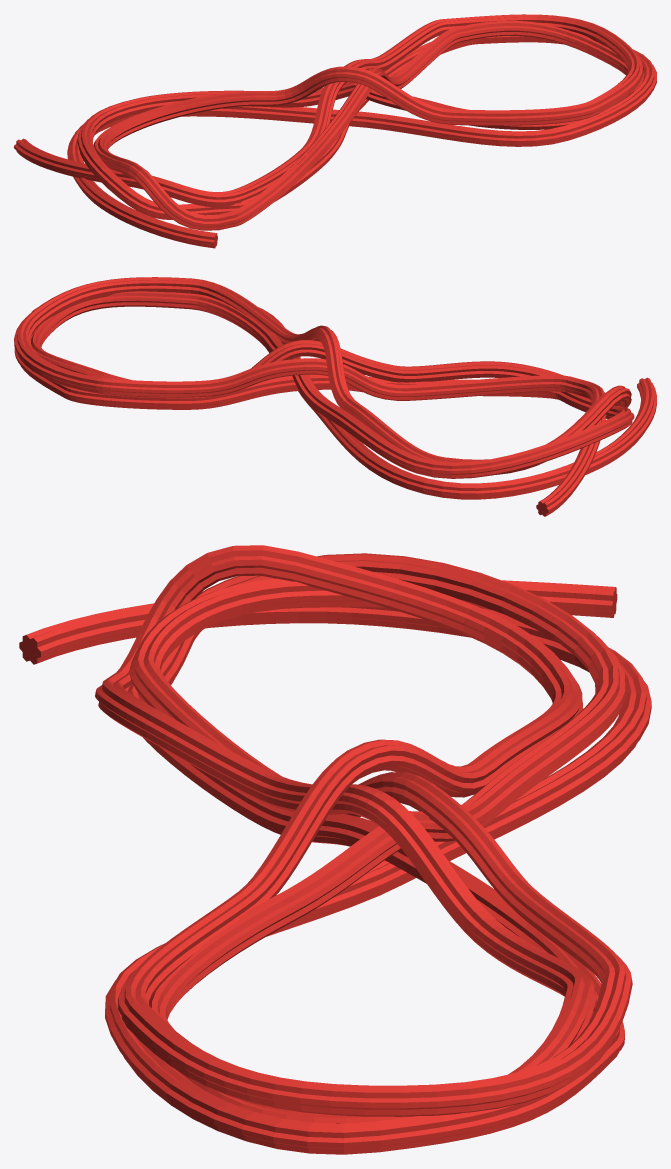
Rendered from Weak Rope.fbx.
The picture shows the model from 3 angles, top to bottom: view 1: azimuth 30°, elevation 25°; view 2: azimuth 150°, elevation 25°; view 3: azimuth 270°, elevation 25°; orthographic projection. The views are drawn at different scales.
Parts seen in each view (by area): view 1: Weak Rope; view 2: Weak Rope; view 3: Weak Rope.
Boxes of the visible parts, <box> form: Weak Rope: <box>14,14,656,248</box>; Weak Rope: <box>14,277,656,516</box>; Weak Rope: <box>19,545,651,1154</box>.
Bounding box in the file's own units: 98.28 × 11.81 × 47.68.
